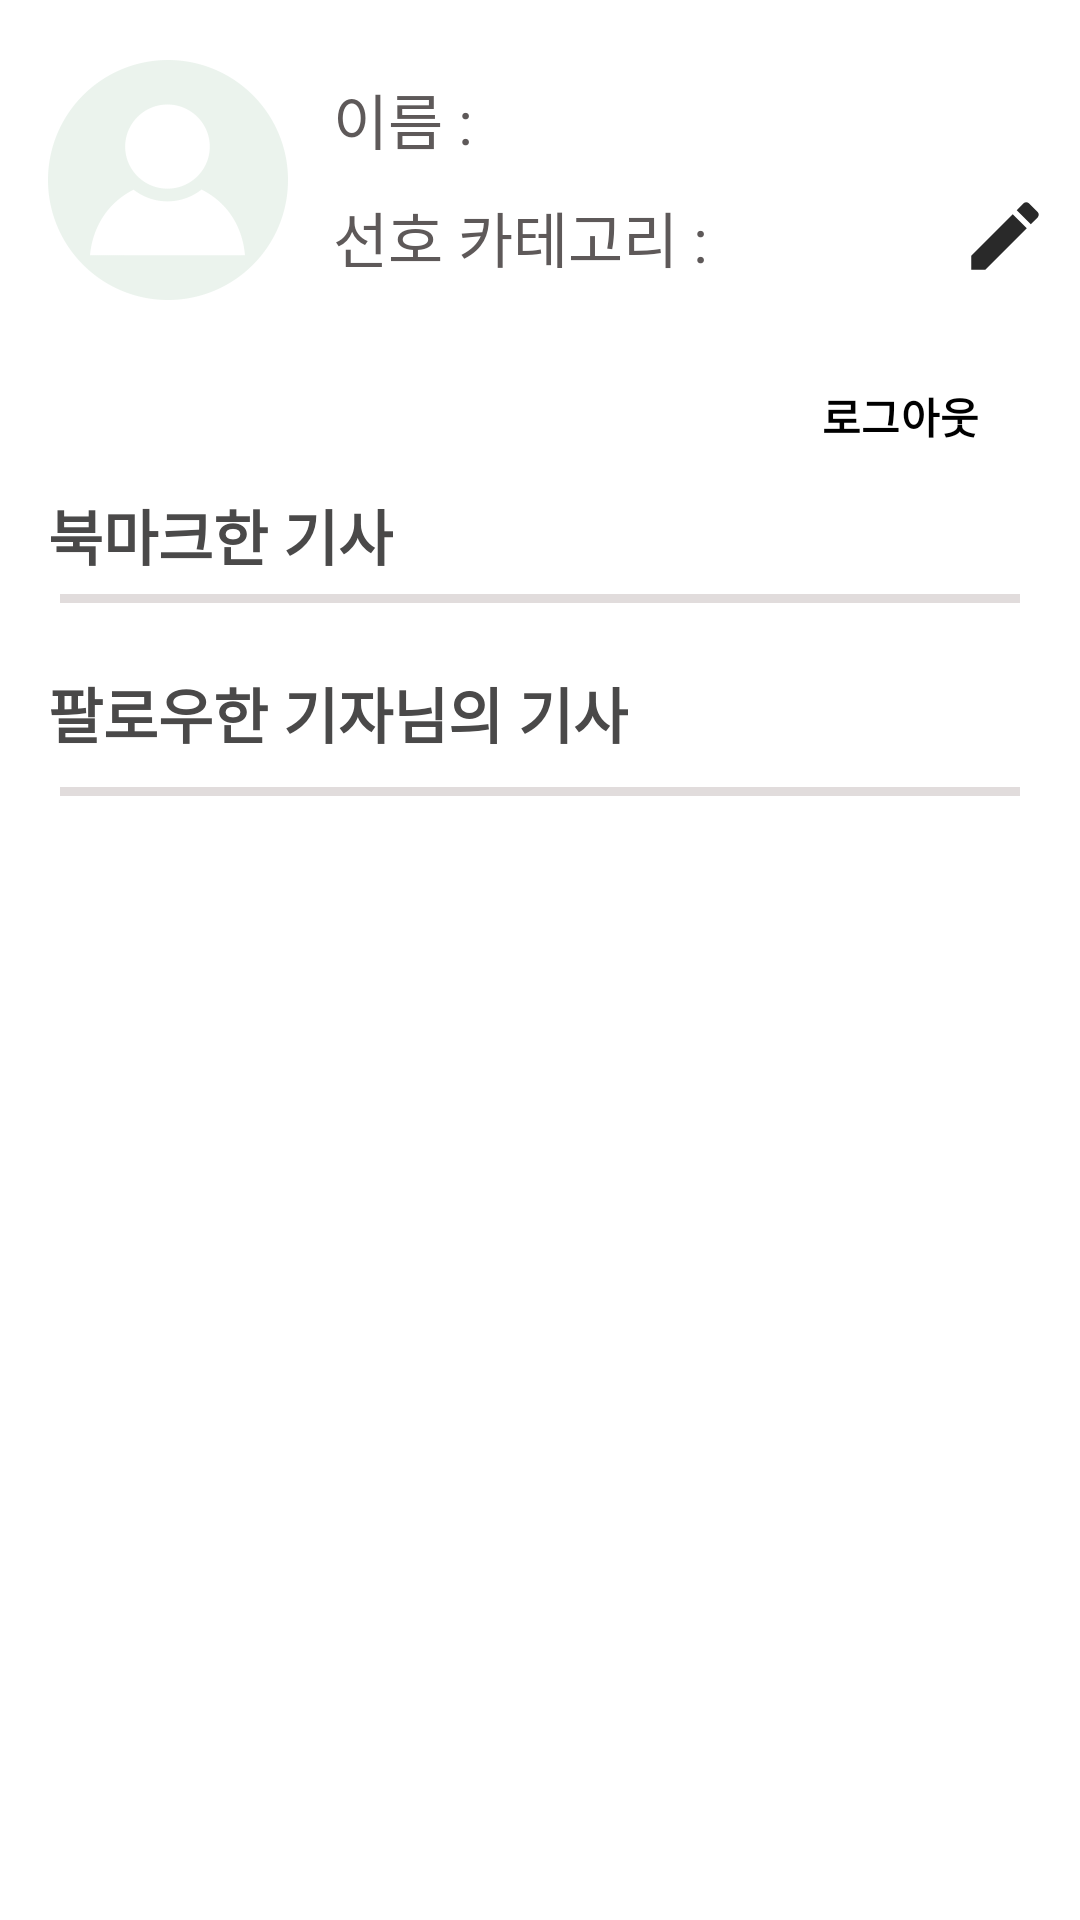

Named icons in this screenshot (1080w x 1920h) and their centers, (x,y):
change: (1005,236)
